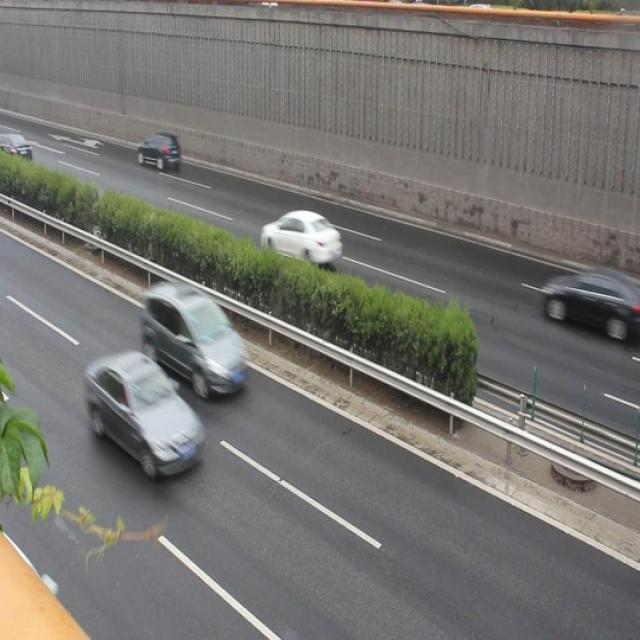car: (85, 348, 202, 476), (144, 280, 244, 393), (542, 266, 640, 346), (261, 208, 341, 268), (138, 133, 183, 172)
